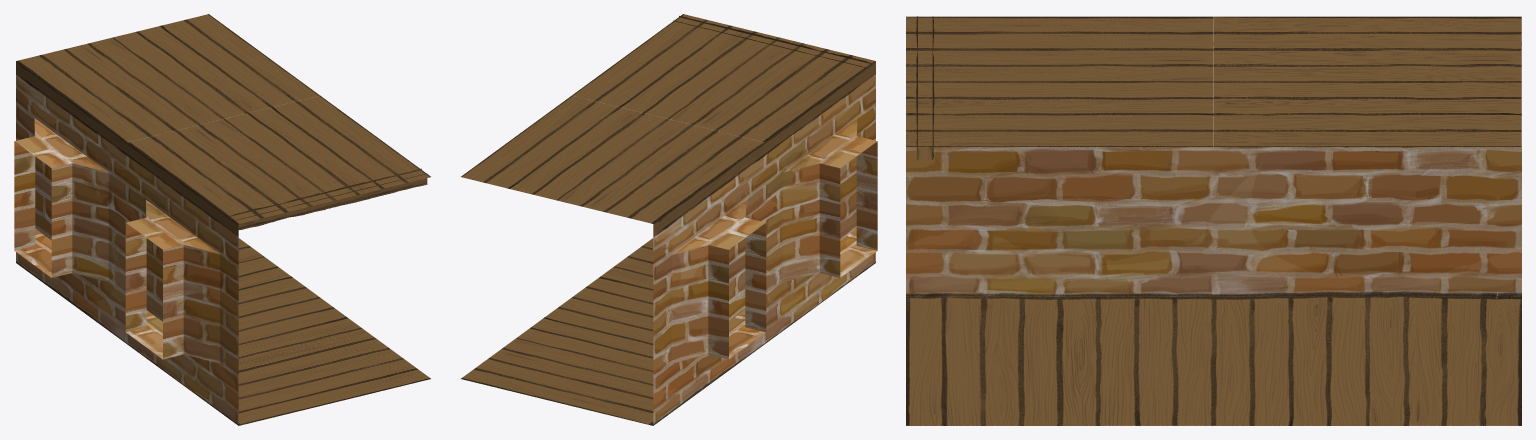
The model's file is Blacksmithy.fbx.
3 renders of one model, left to right at view 1: azimuth 30°, elevation 25°; view 2: azimuth 150°, elevation 25°; view 3: azimuth 270°, elevation 25°, orthographic. The views are drawn at different scales.
Visible parts, largest first — view 1: BG_Wall.2, BG_Wall.1, BG_Wall_Window.002, BG_Wall_Window.1, CeilingPlank; view 2: BG_Wall.1, BG_Wall.2, BG_Wall_Window.1, BG_Wall_Window.002, CeilingPlank; view 3: BG_Wall.1, BG_Wall.2, BG_Wall_Window.002, BG_Wall_Window.1, CeilingPlank.
Part boxes in pixels (x1=…): BG_Wall.2: x1=127, y1=95, x2=430, y2=425; BG_Wall.1: x1=16, y1=14, x2=319, y2=343; BG_Wall_Window.002: x1=125, y1=96, x2=430, y2=425; BG_Wall_Window.1: x1=14, y1=62, x2=318, y2=343; CeilingPlank: x1=229, y1=168, x2=427, y2=229; BG_Wall.1: x1=461, y1=95, x2=764, y2=425; BG_Wall.2: x1=572, y1=14, x2=875, y2=343; BG_Wall_Window.1: x1=461, y1=143, x2=766, y2=425; BG_Wall_Window.002: x1=572, y1=62, x2=877, y2=342; CeilingPlank: x1=673, y1=16, x2=871, y2=67; BG_Wall.1: x1=1214, y1=16, x2=1521, y2=425; BG_Wall.2: x1=906, y1=16, x2=1213, y2=425; BG_Wall_Window.002: x1=906, y1=16, x2=1213, y2=425; BG_Wall_Window.1: x1=1214, y1=147, x2=1521, y2=425; CeilingPlank: x1=916, y1=16, x2=934, y2=160.
Bounding box in the file's own units: 120 × 101 × 200.
